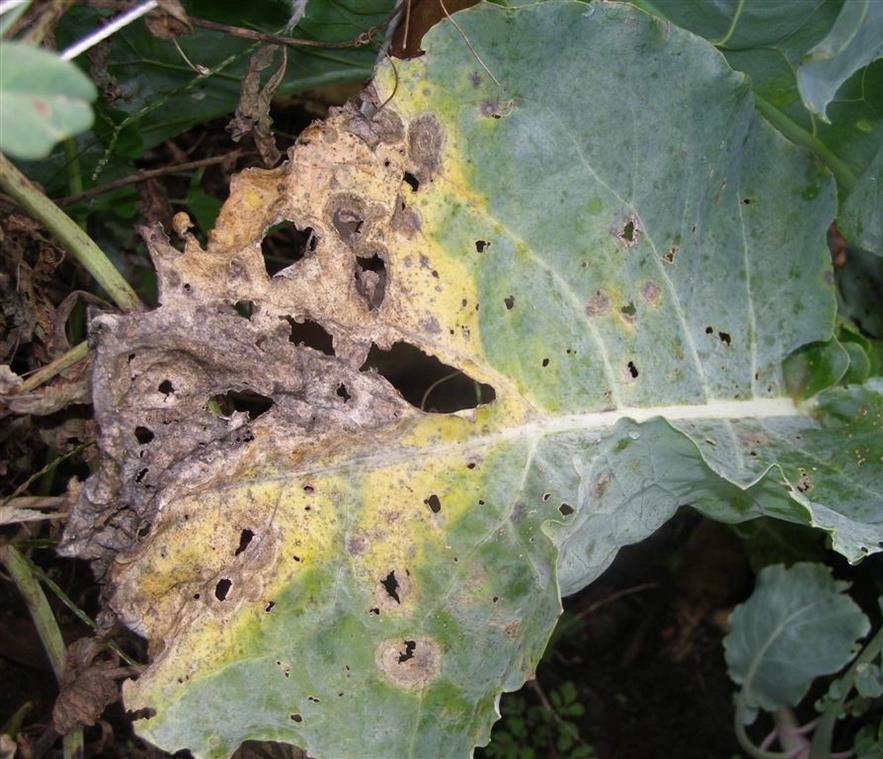Cabbage_Blight: (77, 79, 525, 660)
